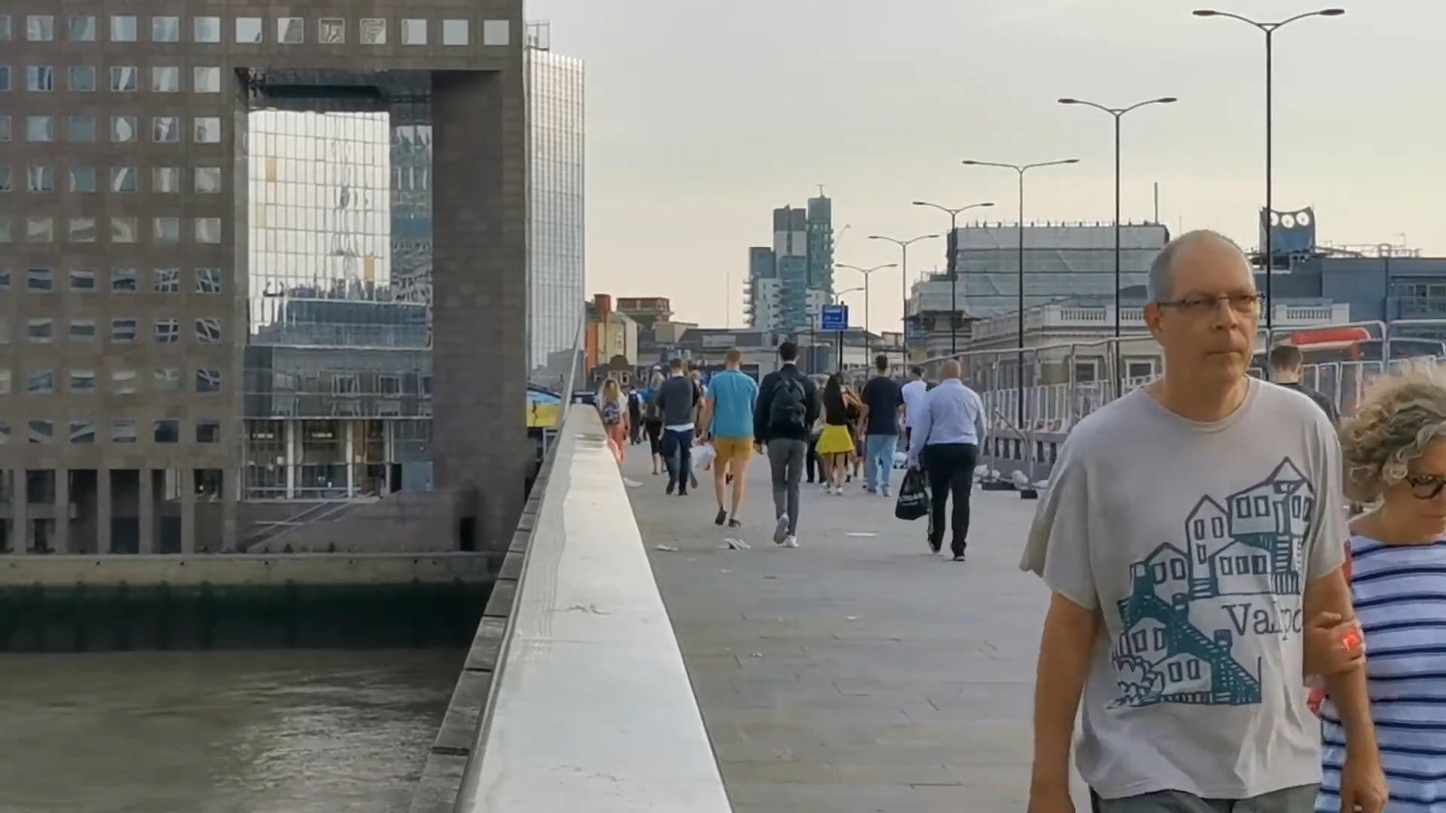no-helmet: (1336, 358, 1446, 539), (1143, 229, 1266, 386), (1267, 344, 1304, 384), (940, 359, 963, 382), (779, 342, 801, 366), (823, 375, 843, 399), (874, 355, 891, 375), (725, 349, 742, 369), (602, 379, 618, 399), (669, 358, 685, 374)
